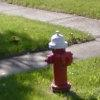Hydrant: (34, 23, 85, 95)
